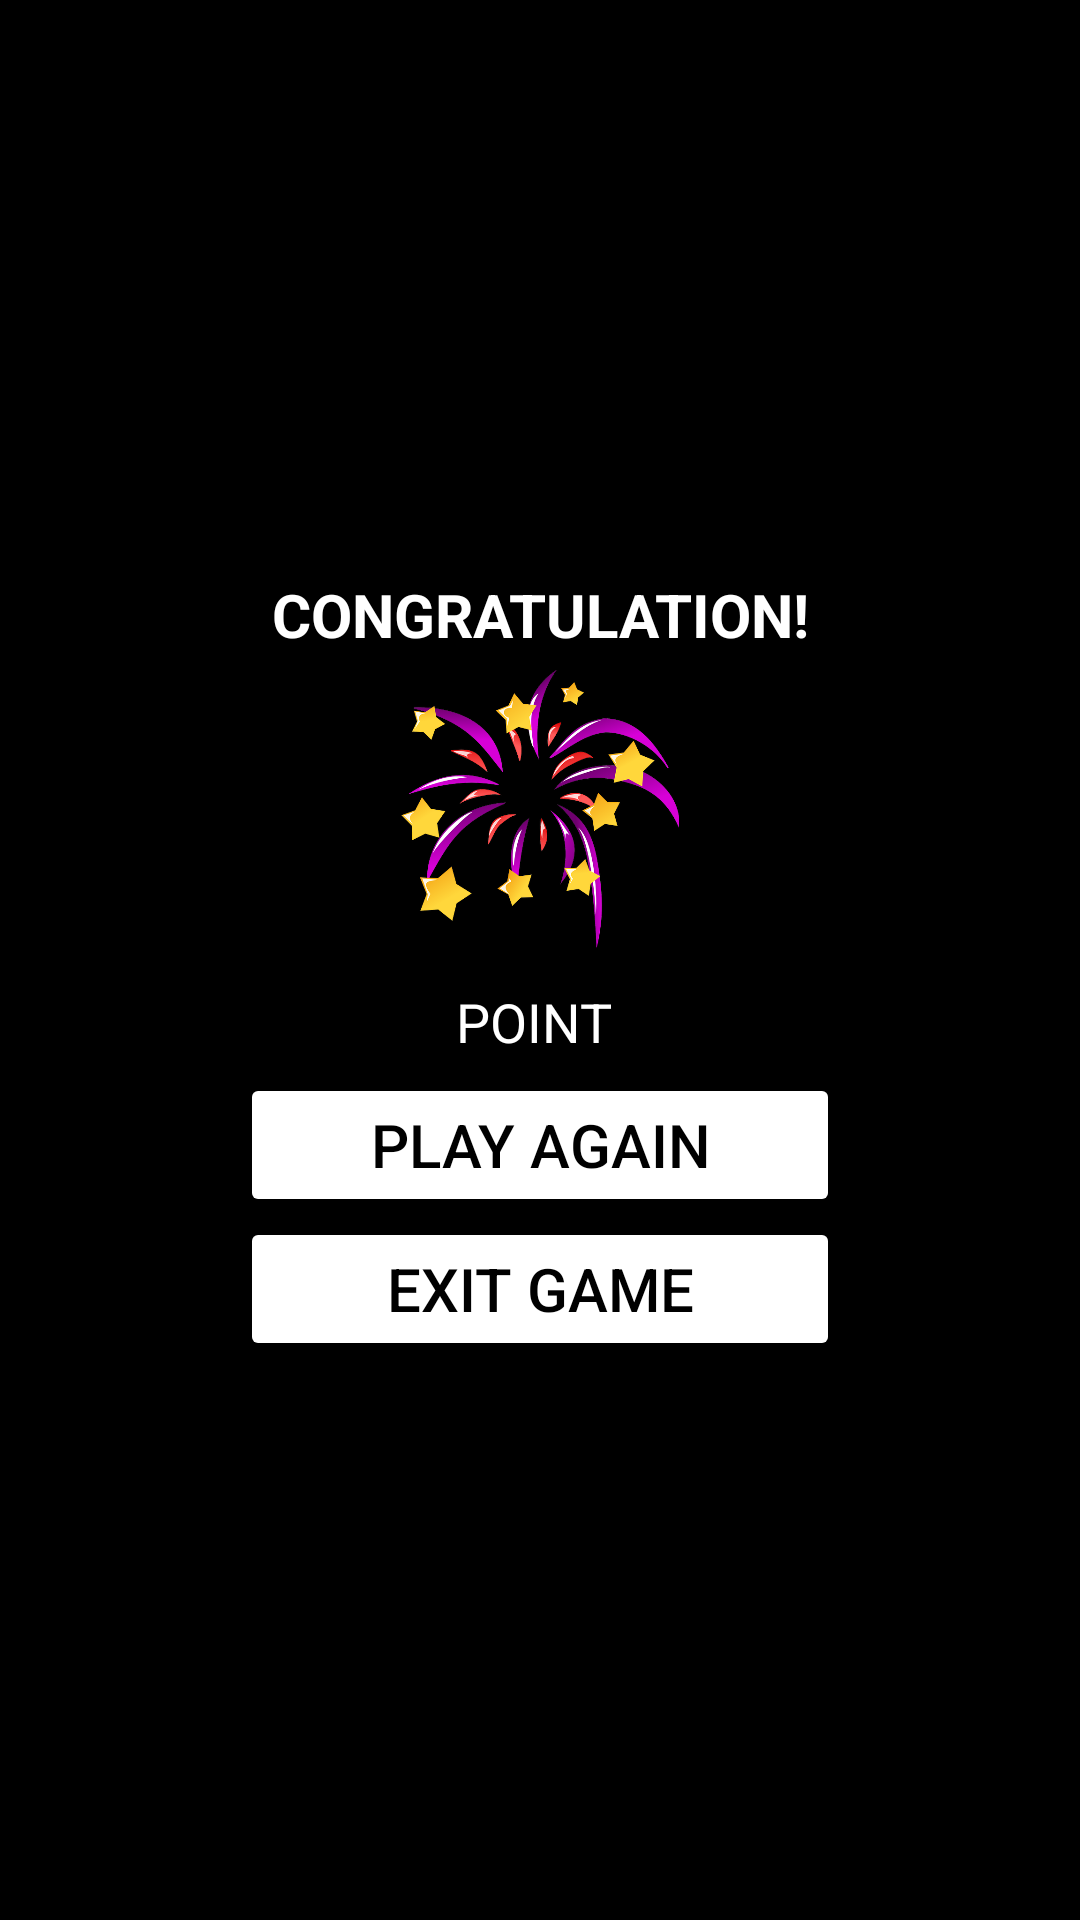

Icons on this 1080px×1920px Android screen, each with the point to tap as point (x, y):
newyear: point (540, 809)
